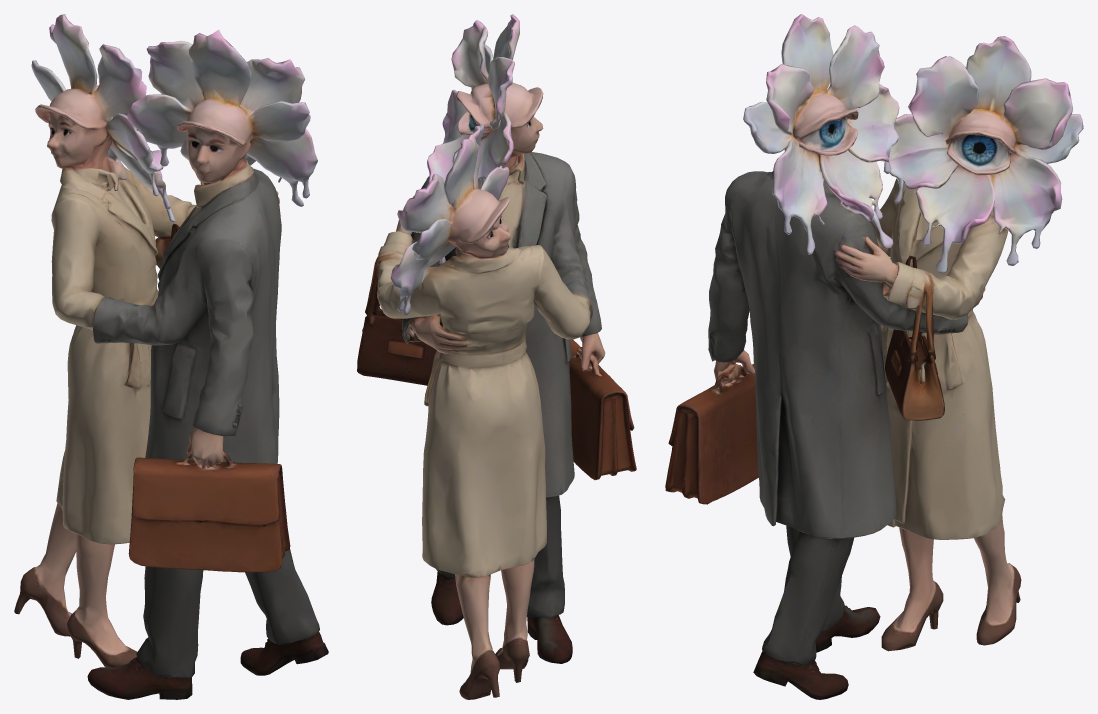
Rendered from waltzers.glb.
3 views of the same model, side by side, from view 1: azimuth 30°, elevation 25°; view 2: azimuth 150°, elevation 25°; view 3: azimuth 270°, elevation 25° (orthographic). The views are drawn at different scales.
Parts seen in each view (by area): view 1: tripo_node_e0b1b88c-2eec-46d7-bcee-ceacc03af8e0; view 2: tripo_node_e0b1b88c-2eec-46d7-bcee-ceacc03af8e0; view 3: tripo_node_e0b1b88c-2eec-46d7-bcee-ceacc03af8e0.
Part boxes in pixels (x1,y1,x2,y2): tripo_node_e0b1b88c-2eec-46d7-bcee-ceacc03af8e0: [14, 14, 328, 699]; tripo_node_e0b1b88c-2eec-46d7-bcee-ceacc03af8e0: [357, 14, 636, 699]; tripo_node_e0b1b88c-2eec-46d7-bcee-ceacc03af8e0: [665, 14, 1083, 699].
Bounding box in the file's own units: 0.3551 × 1 × 0.5808.
Materials: 1 (1 with a texture image).
